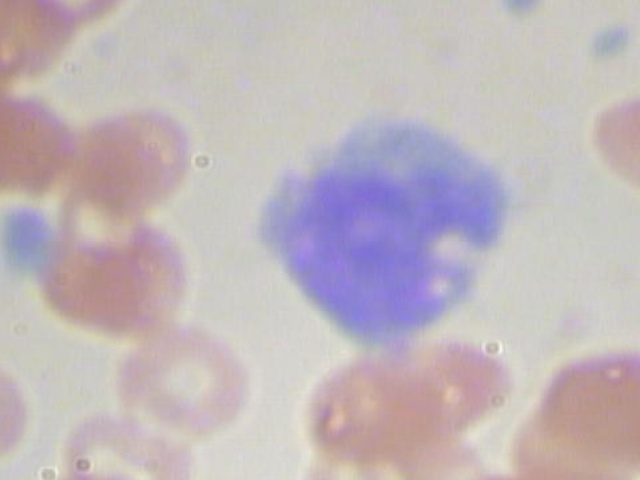Platelets: (576, 14, 638, 62), (0, 203, 49, 251), (494, 0, 556, 21)
RBC: (263, 340, 432, 477), (366, 331, 535, 467), (28, 210, 208, 336), (63, 87, 242, 213), (109, 324, 257, 452), (51, 387, 198, 480), (542, 328, 640, 465), (541, 82, 640, 209), (0, 85, 89, 206), (275, 423, 441, 480), (0, 341, 43, 470), (625, 72, 640, 185), (629, 201, 640, 337)
WBC: (246, 98, 535, 354)
